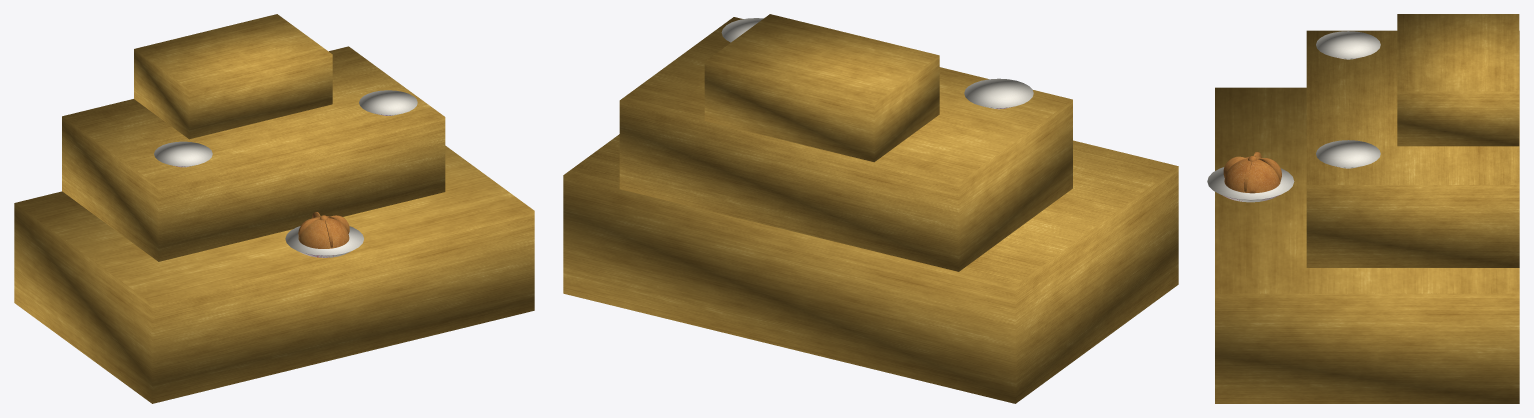
Rendered from altar.obj.
3 renders of one model, left to right at view 1: azimuth 30°, elevation 25°; view 2: azimuth 150°, elevation 25°; view 3: azimuth 270°, elevation 25°, orthographic. The views are drawn at different scales.
Parts seen in each view (by area): view 1: Box001, Box002, Box005, Cone002, Cone003, Sphere001, Cone001; view 2: Box001, Box002, Box005, Cone003; view 3: Box001, Box002, Box005, Cone002, Cone003, Sphere001, Cone001.
Boxes of the visible parts, x1=… form: Box001: x1=14, y1=145, x2=534, y2=403; Box002: x1=62, y1=46, x2=445, y2=261; Box005: x1=134, y1=14, x2=332, y2=139; Cone002: x1=359, y1=90, x2=417, y2=115; Cone003: x1=154, y1=141, x2=212, y2=167; Sphere001: x1=298, y1=216, x2=349, y2=248; Cone001: x1=285, y1=226, x2=363, y2=257; Box001: x1=563, y1=134, x2=1178, y2=403; Box002: x1=619, y1=17, x2=1072, y2=271; Box005: x1=704, y1=14, x2=939, y2=162; Cone003: x1=964, y1=78, x2=1033, y2=109; Box001: x1=1215, y1=87, x2=1519, y2=403; Box002: x1=1306, y1=30, x2=1519, y2=267; Box005: x1=1397, y1=14, x2=1519, y2=146; Cone002: x1=1316, y1=140, x2=1380, y2=168; Cone003: x1=1316, y1=31, x2=1380, y2=59; Sphere001: x1=1224, y1=156, x2=1280, y2=193; Cone001: x1=1207, y1=167, x2=1294, y2=202.
Size of the model in its own units: 8 by 4.5 by 5.13.
4 materials, 4 textured.
